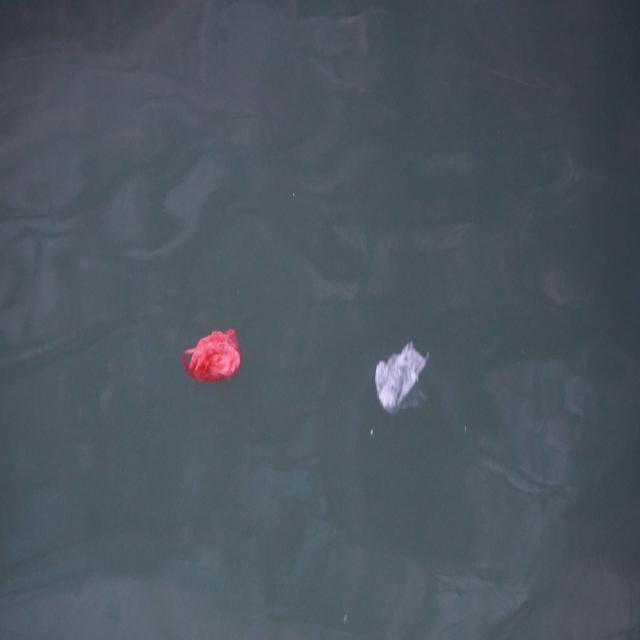Kantong Plastik: (371, 332, 431, 420), (181, 324, 245, 392)
